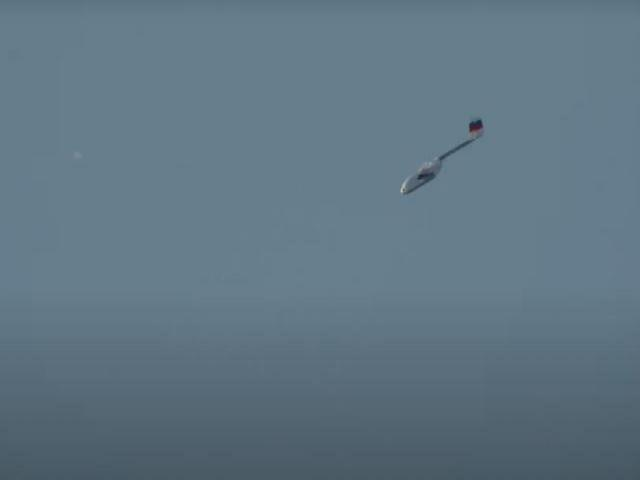iha: (402, 118, 483, 196)
